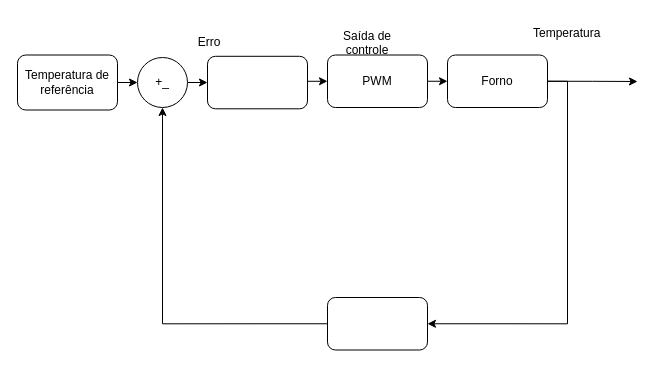
Some shapes in this 663 by 367 pixel diagram are drawn without their labels. Each missing label, with the centre of its shape:
PID: (257,82)
Termopar: (377,323)
